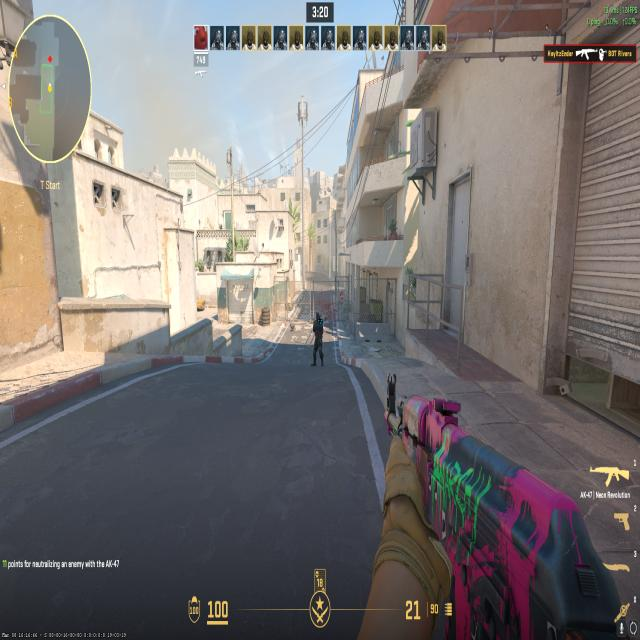ct: (309, 307, 327, 369)
